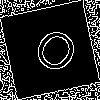O: (25, 25, 83, 85)
